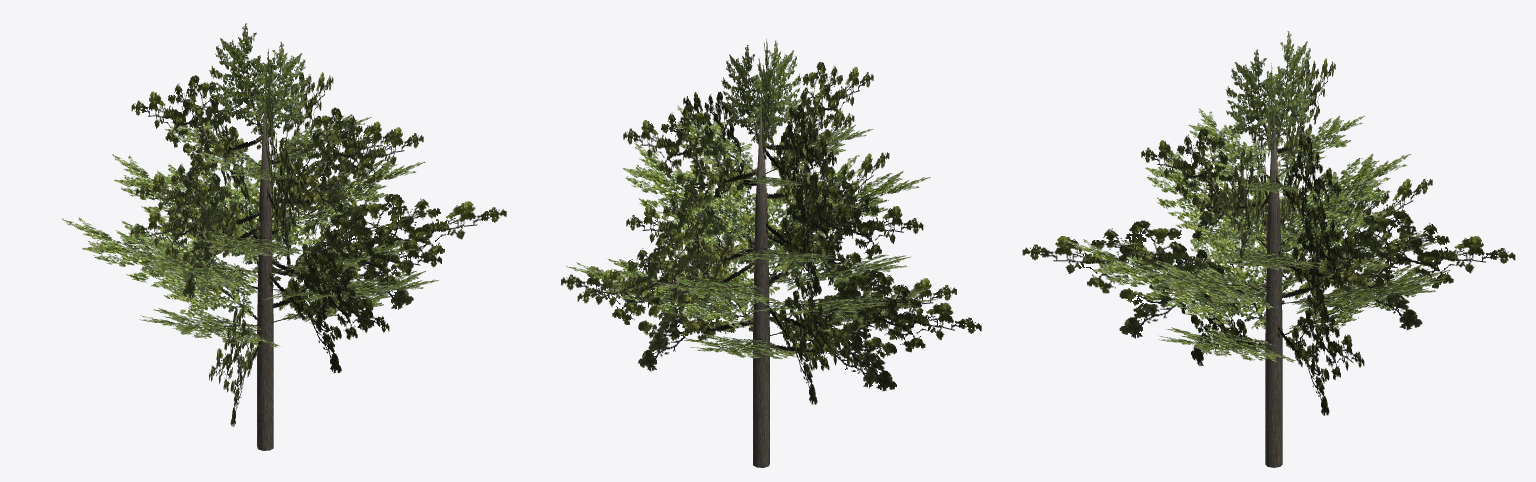
The model's file is tree.glb.
3 views of the same model, side by side, from view 1: azimuth 30°, elevation 25°; view 2: azimuth 150°, elevation 25°; view 3: azimuth 270°, elevation 25° (orthographic). The views are drawn at different scales.
Parts seen in each view (by area): view 1: Cube.020, Cube.012, Cylinder.001, Cube.009, Cube.021, Cube.014, Cube.002, Cube.027, Cube.047, Cube.011, Cube.017, Cube.048 (+21 smaller); view 2: Cube.019, Cube.006, Cylinder.001, Cube.015, Cube.009, Cube.018, Cube.032, Cube.008, Cube.010, Cube.017, Cube.013, Cube.003 (+20 smaller); view 3: Cube.006, Cube.002, Cylinder.001, Cube.016, Cube.026, Cube.031, Cube.033, Cube.008, Cube.049, Cube.047, Cube.018, Cube.029 (+15 smaller).
Boxes of the visible parts, x1,y1,x2,y2 form: Cube.020: [272, 194, 506, 309]; Cube.012: [271, 213, 441, 330]; Cylinder.001: [257, 89, 273, 450]; Cube.009: [130, 181, 260, 298]; Cube.021: [270, 107, 398, 219]; Cube.014: [131, 75, 262, 188]; Cube.002: [269, 250, 389, 373]; Cube.027: [61, 217, 258, 309]; Cube.047: [209, 23, 286, 134]; Cube.011: [271, 120, 423, 233]; Cube.017: [136, 154, 259, 267]; Cube.048: [248, 41, 310, 138]; Cube.019: [768, 270, 981, 391]; Cube.006: [577, 229, 756, 352]; Cylinder.001: [753, 92, 769, 467]; Cube.015: [623, 104, 757, 223]; Cube.009: [767, 181, 923, 297]; Cube.018: [626, 185, 754, 299]; Cube.032: [622, 142, 754, 245]; Cube.008: [561, 252, 753, 371]; Cube.010: [764, 276, 852, 404]; Cube.017: [766, 176, 859, 296]; Cube.013: [764, 62, 873, 180]; Cube.003: [770, 269, 956, 388]; Cube.006: [1280, 211, 1515, 330]; Cube.002: [1022, 220, 1266, 338]; Cylinder.001: [1265, 99, 1282, 467]; Cube.016: [1141, 128, 1268, 245]; Cube.026: [1067, 239, 1266, 325]; Cube.031: [1279, 153, 1411, 245]; Cube.033: [1145, 148, 1266, 248]; Cube.008: [1277, 294, 1364, 415]; Cube.049: [1225, 49, 1292, 152]; Cube.047: [1258, 31, 1315, 148]; Cube.018: [1278, 209, 1364, 324]; Cube.029: [1132, 262, 1275, 308].
Bounding box in the file's own units: 22.18 × 20.96 × 22.2.
3 materials, 3 textured.
